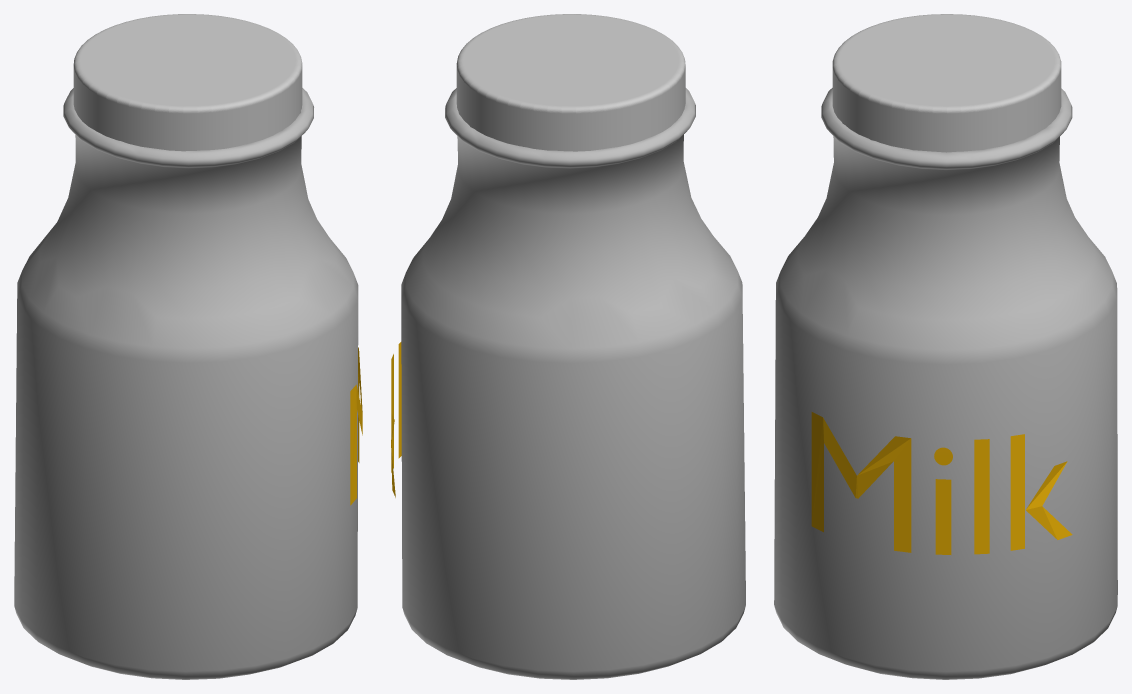
Rendered from milk_anim.fbx.
3 renders of one model, left to right at view 1: azimuth 30°, elevation 25°; view 2: azimuth 150°, elevation 25°; view 3: azimuth 270°, elevation 25°, orthographic.
Parts seen in each view (by area): view 1: Cylinder004; view 2: Cylinder004; view 3: Cylinder004.
Part boxes in pixels (x1=…): Cylinder004: x1=14, y1=14, x2=362, y2=679; Cylinder004: x1=391, y1=14, x2=745, y2=679; Cylinder004: x1=774, y1=14, x2=1117, y2=679.
Size of the model in its own units: 152 by 265 by 148.
